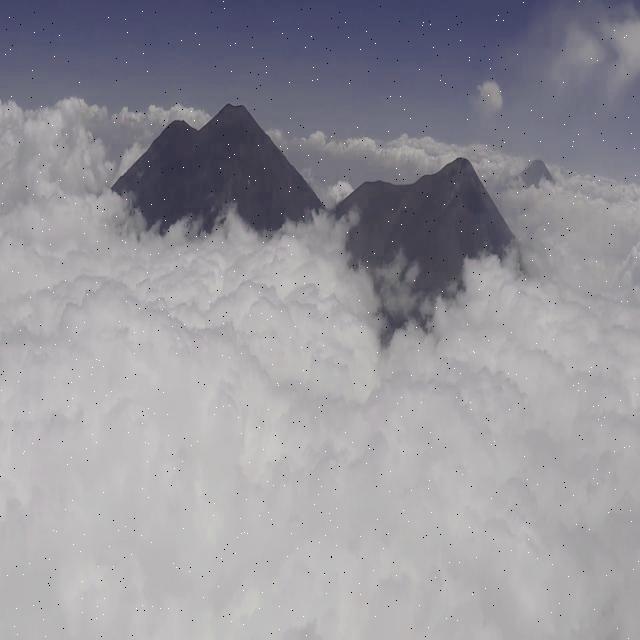Plume: (476, 78, 501, 118)
Summit: (416, 155, 494, 206)
